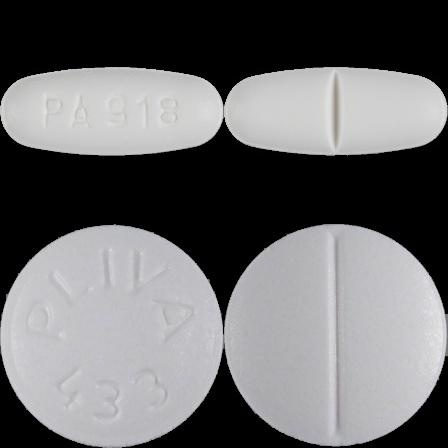42291-819: (0, 0, 224, 224)
